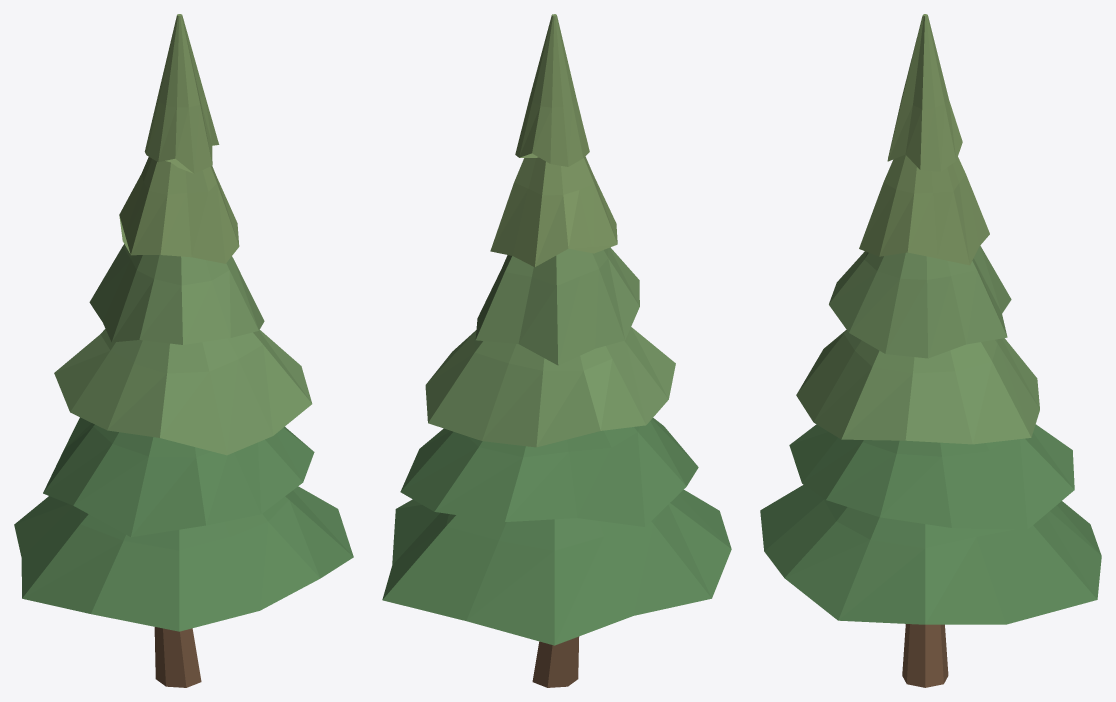
File: Pine_Medium.fbx
The picture shows the model from 3 angles, left to right: view 1: azimuth 30°, elevation 25°; view 2: azimuth 150°, elevation 25°; view 3: azimuth 270°, elevation 25°; orthographic projection.
Parts seen in each view (by area): view 1: Pine_Medium; view 2: Pine_Medium; view 3: Pine_Medium.
Boxes of the visible parts, x1=… form: Pine_Medium: x1=14, y1=14, x2=353, y2=687; Pine_Medium: x1=382, y1=14, x2=731, y2=687; Pine_Medium: x1=760, y1=14, x2=1101, y2=687.
Size of the model in its own units: 285 by 572 by 267.
